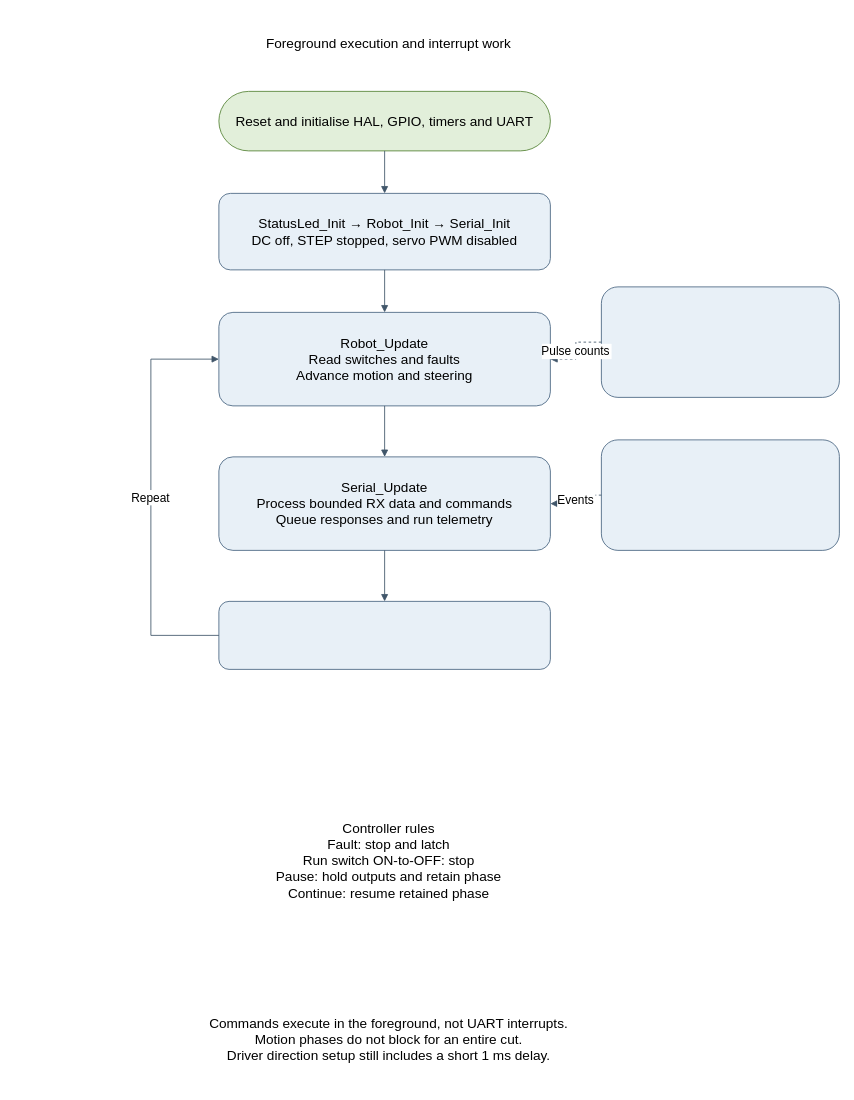
Some shapes in this 854 by 1100 pixel diagram are drawn without their labels. The shapes that lost their labels are listed below. From the top down, each one's centre as x and y in pixels, then its label:
At point (720, 341): "TIM16 interrupt Account for STEP pulses Rearm counted motion".
At point (720, 494): "UART interrupts Buffer incoming bytes Release completed TX chunks".
At point (384, 635): "StatusLed_Update Expire activity indications".
